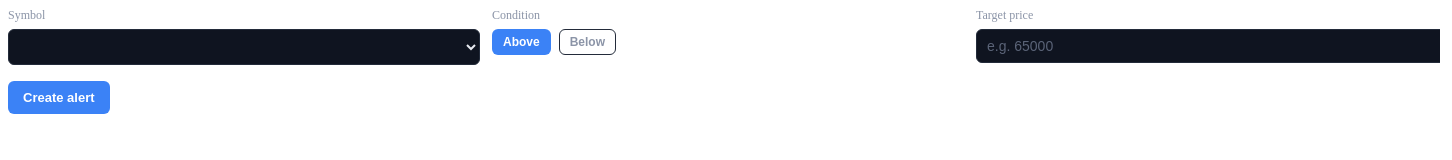
Scenario: AlertForm › requires a valid target price before submitting
What coordinates should you click on to do the following:
click the button "Create alert"
I would click on:
 (59, 98)
Its box is [8, 81, 110, 114].
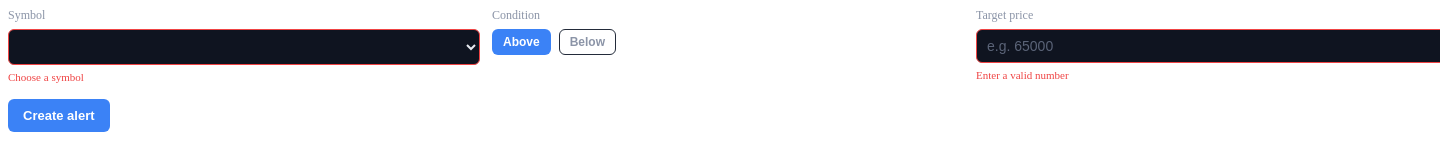
Result: the text "Enter a valid number" is shown at [976, 69, 1069, 81]
